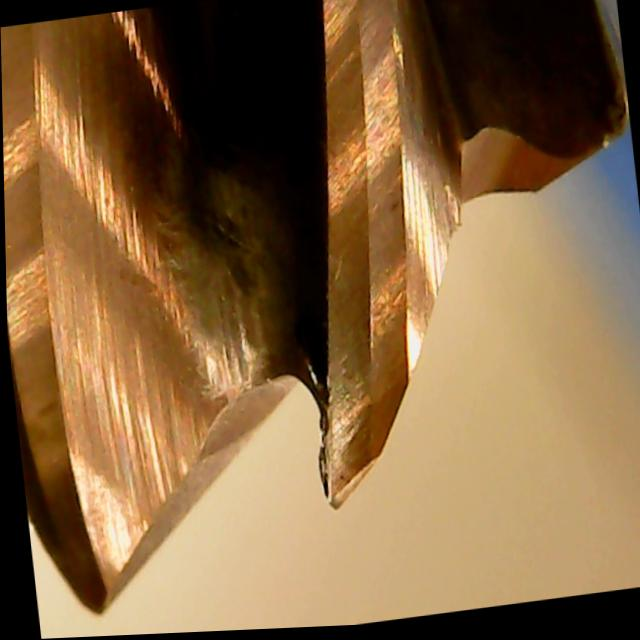Tool-wear-class-1: (275, 292, 432, 527)
